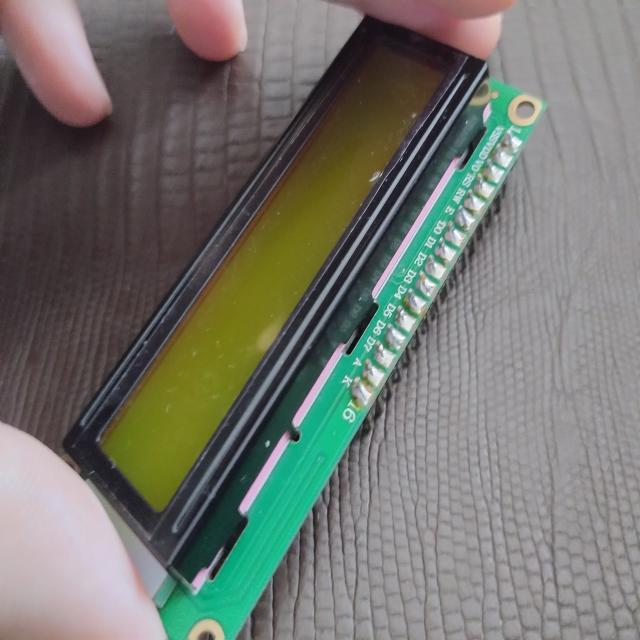lcd: (92, 3, 537, 640)
